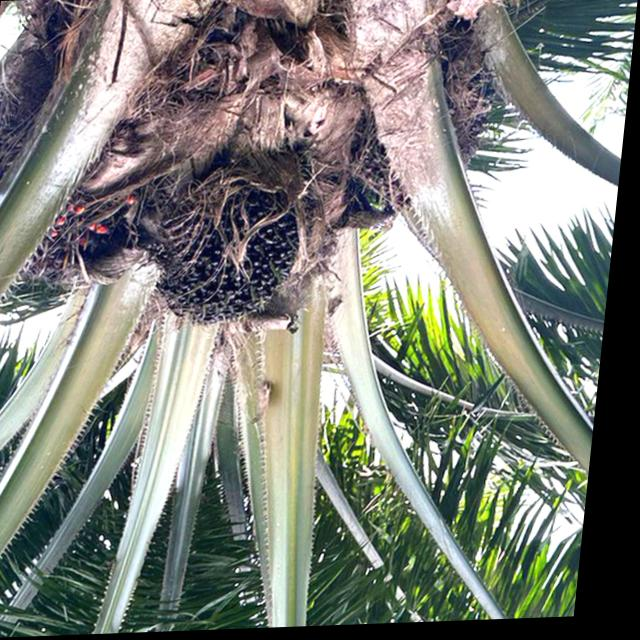unripe: (150, 153, 324, 337)
